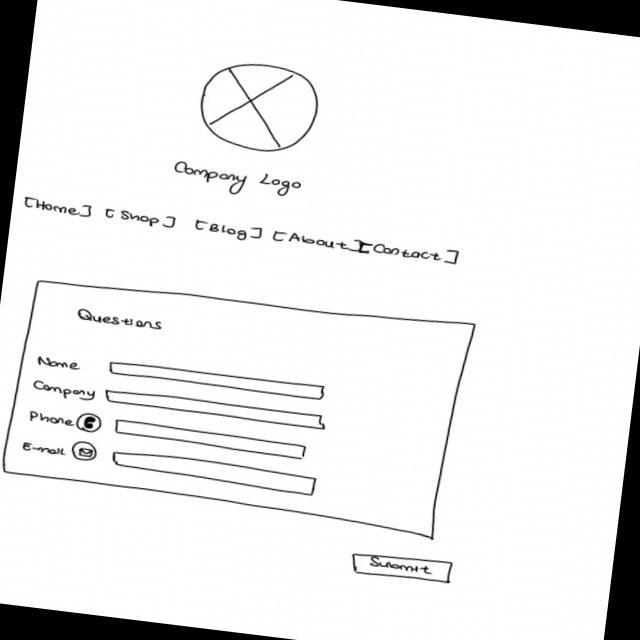button: (348, 548, 454, 586)
container: (0, 266, 477, 542)
icon-button: (74, 410, 104, 434), (70, 439, 100, 463)
image: (192, 56, 324, 160)
input: (109, 448, 318, 497), (107, 358, 327, 402), (102, 387, 328, 429), (112, 418, 310, 462)
label: (170, 158, 307, 204), (74, 306, 164, 332), (30, 379, 100, 404), (27, 409, 75, 428), (34, 354, 84, 372), (19, 439, 68, 456)
link: (358, 238, 462, 266), (272, 229, 362, 253), (102, 206, 180, 231), (189, 218, 264, 242), (22, 195, 94, 218)
